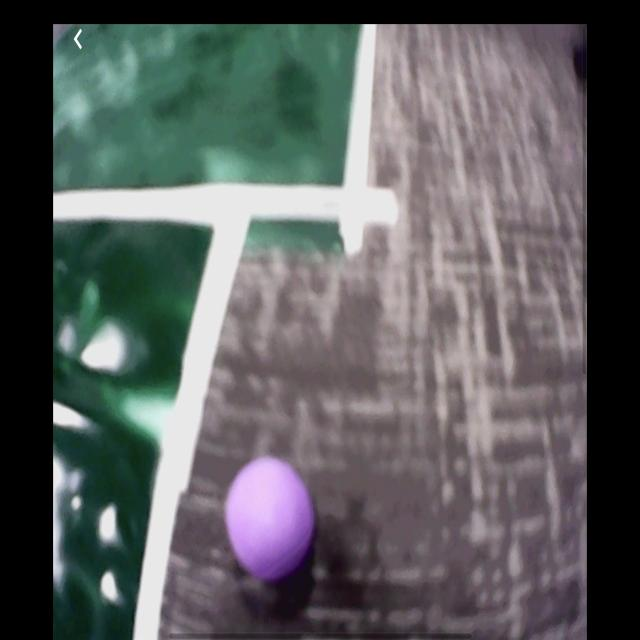ball: (226, 462, 313, 578)
